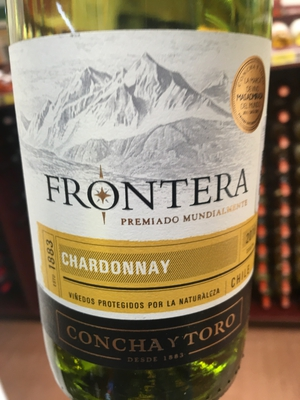frontera chardonnay: (14, 5, 278, 400)
